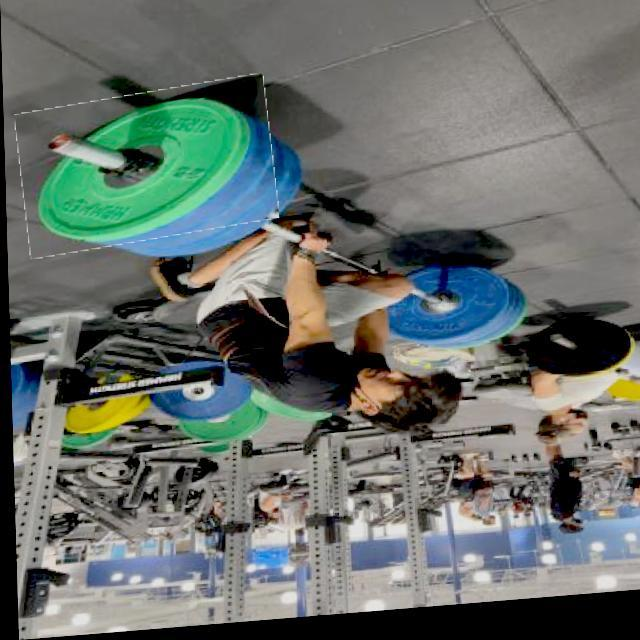barbell: (17, 83, 275, 256)
